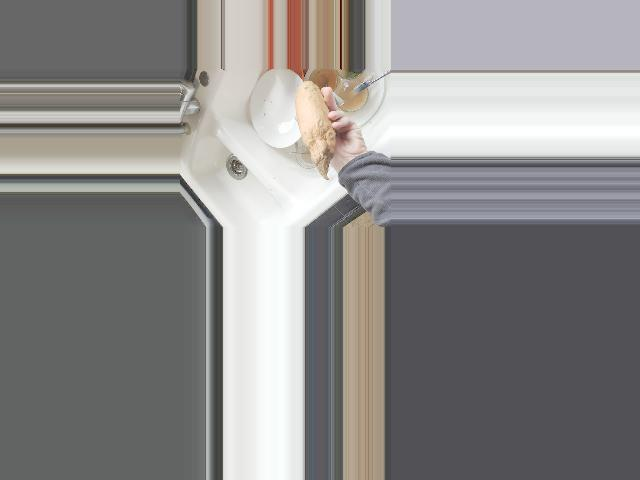sweet_potato: (292, 81, 335, 180)
